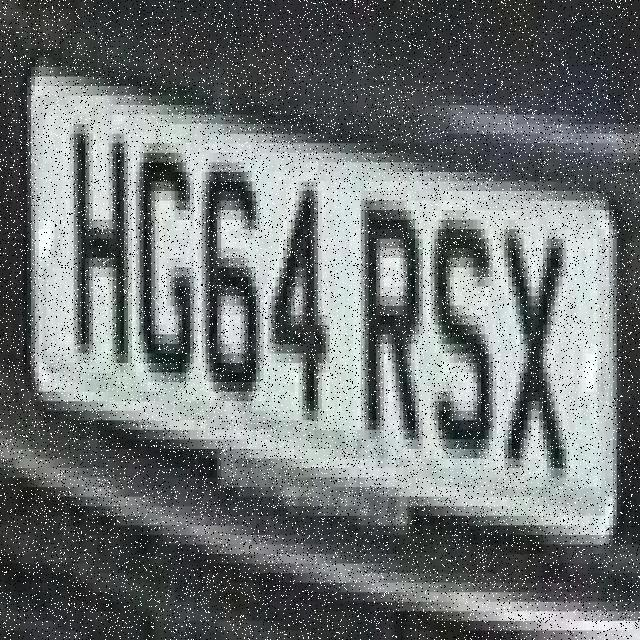LicensePlate: (22, 29, 627, 568)
